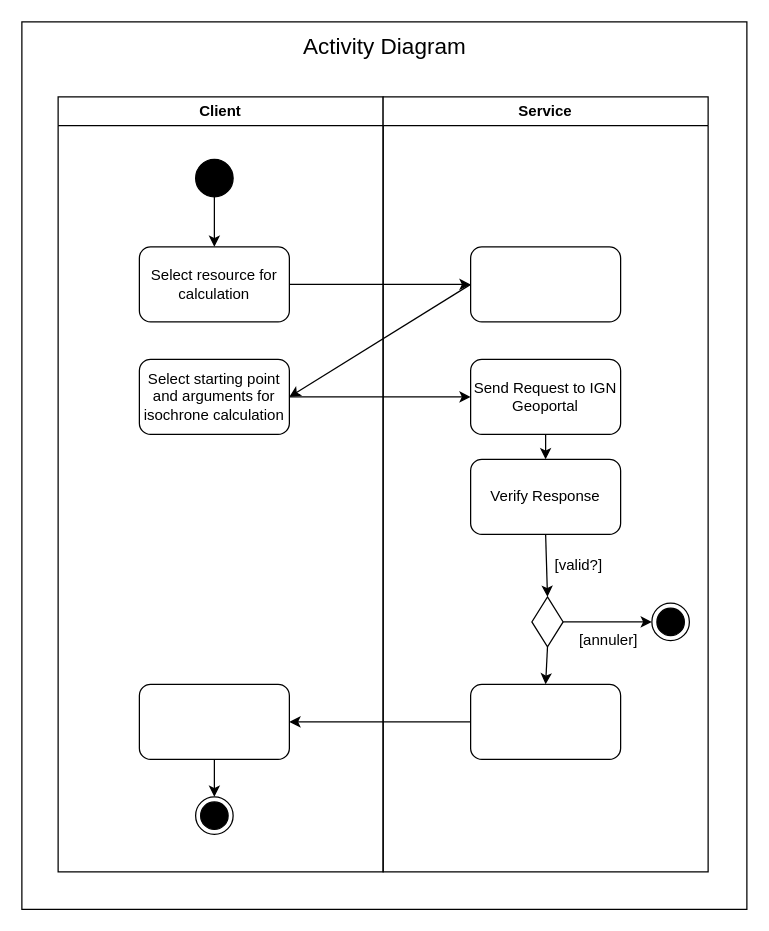
This 769x931 diagram has some shape labels left out. Each missing label, with the box of its shape:
Populate argument boxes with options for the selected resource: (469, 246, 621, 322)
Return Result: (138, 683, 289, 759)
Save Response as geopackage: (469, 683, 621, 759)
